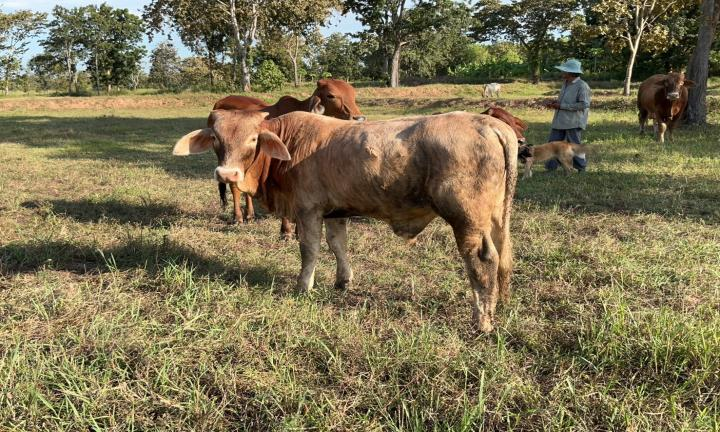Charolais: (173, 110, 517, 331)
